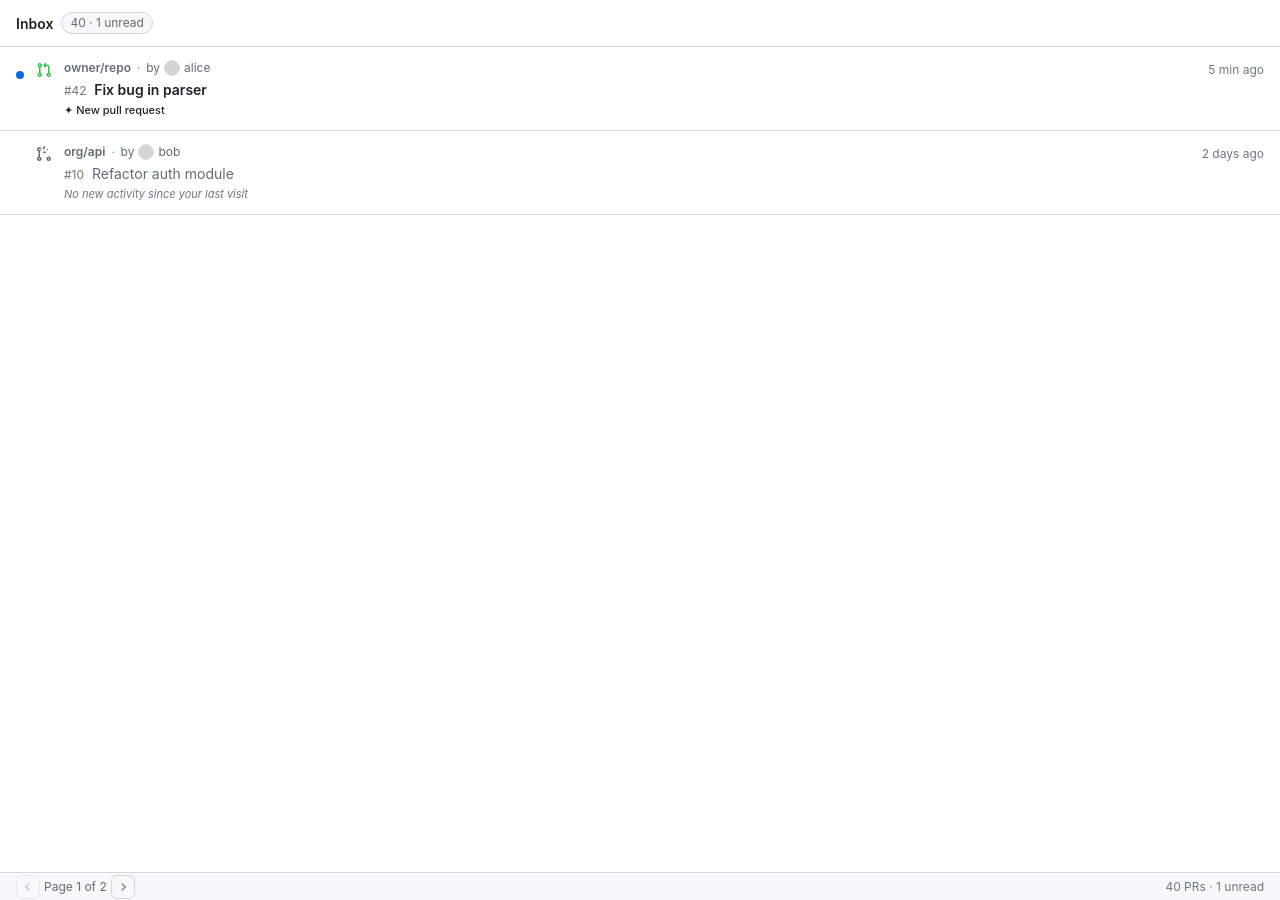
Test case: PrList › clicking Next page fetches page 2
Expected: the text "Fix bug in parser" is shown, [91, 81, 207, 98]
Click the button named "Next page". click: (123, 886)
box: [111, 874, 135, 898]
Wait 150 ms
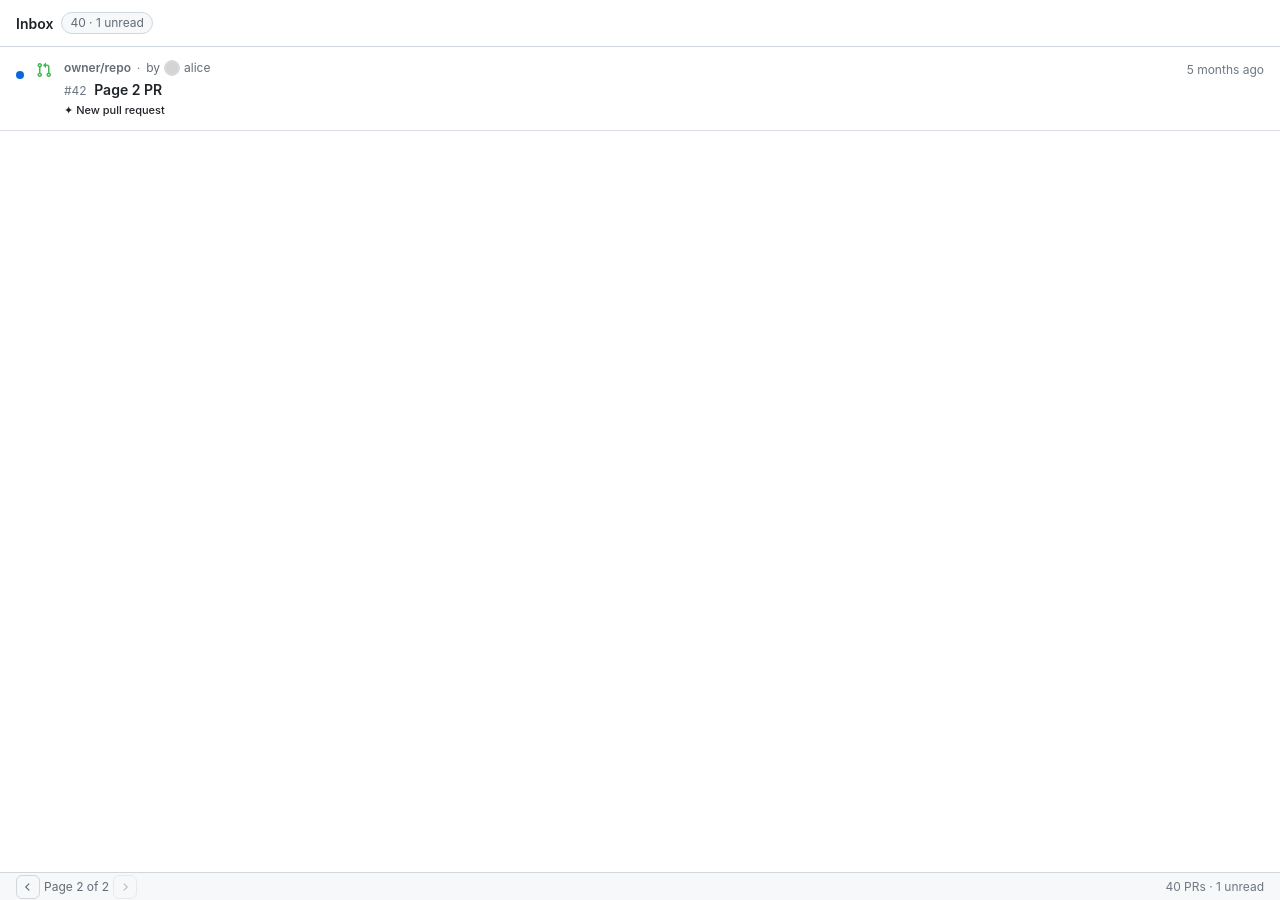
Expected: the text "Page 2 PR" is shown, [91, 81, 162, 98]
Expected: the text "Page 2 of 2" is shown, [44, 878, 109, 896]
Expected: the button named "Next page" is disabled, [113, 874, 137, 898]
